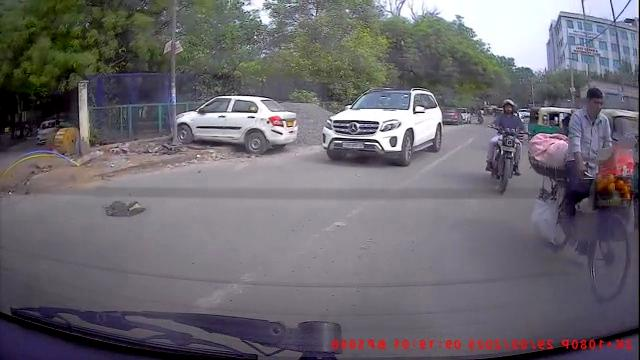motorcycle_with_helmet: (483, 98, 526, 197)
